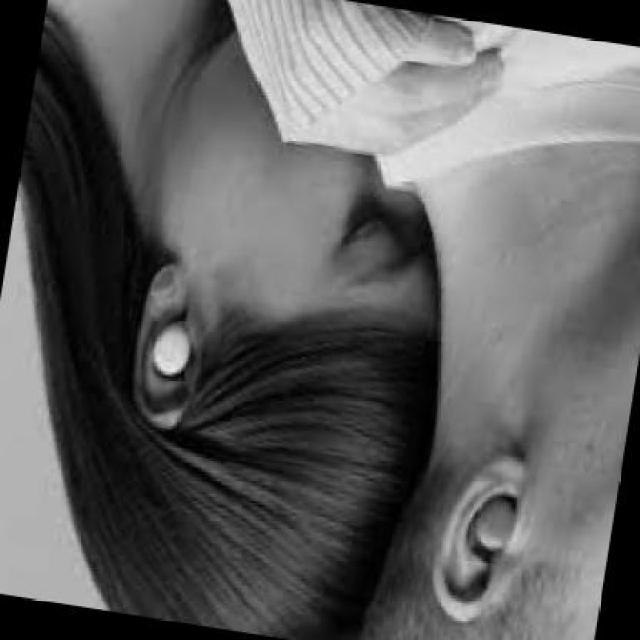earphone: (448, 483, 530, 562), (140, 308, 210, 394)
